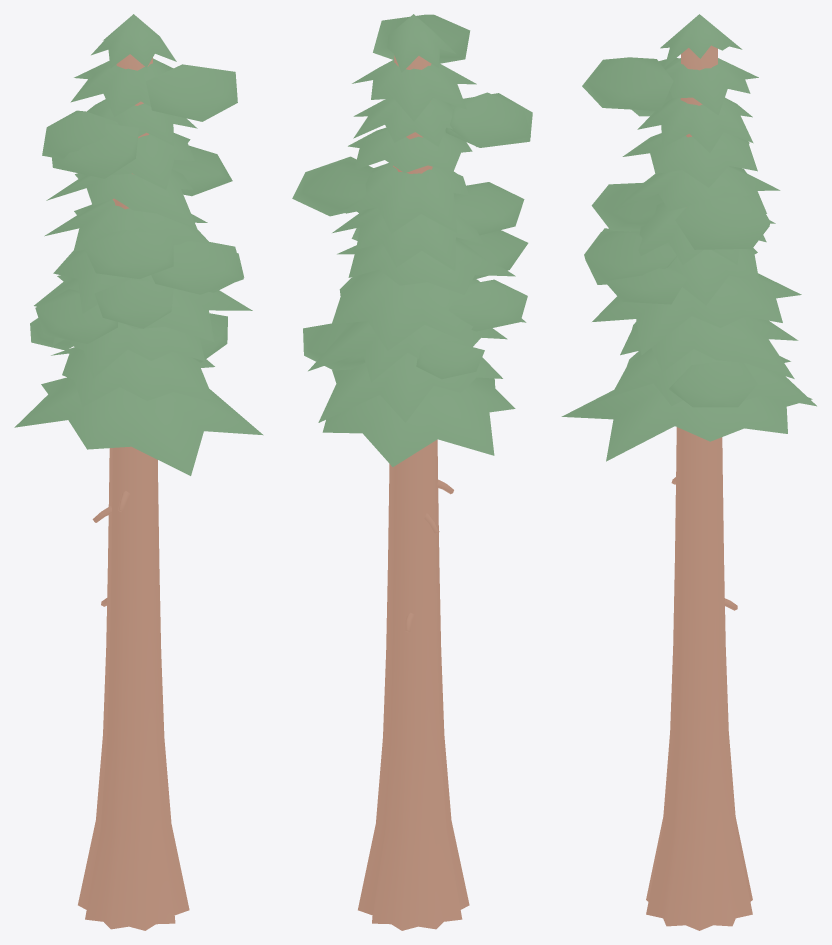
File: Blender_Redwood_3_Far.glb
3 renders of one model, left to right at view 1: azimuth 30°, elevation 25°; view 2: azimuth 150°, elevation 25°; view 3: azimuth 270°, elevation 25°, orthographic.
Parts seen in each view (by area): view 1: Blender_Redwood_3_Far; view 2: Blender_Redwood_3_Far; view 3: Blender_Redwood_3_Far.
Boxes of the visible parts, left/top/right/bottom form: Blender_Redwood_3_Far: left=14, top=14, right=263, bottom=930; Blender_Redwood_3_Far: left=292, top=14, right=532, bottom=930; Blender_Redwood_3_Far: left=561, top=14, right=816, bottom=930.
Bounding box in the file's own units: 26.66 × 110 × 28.59.
